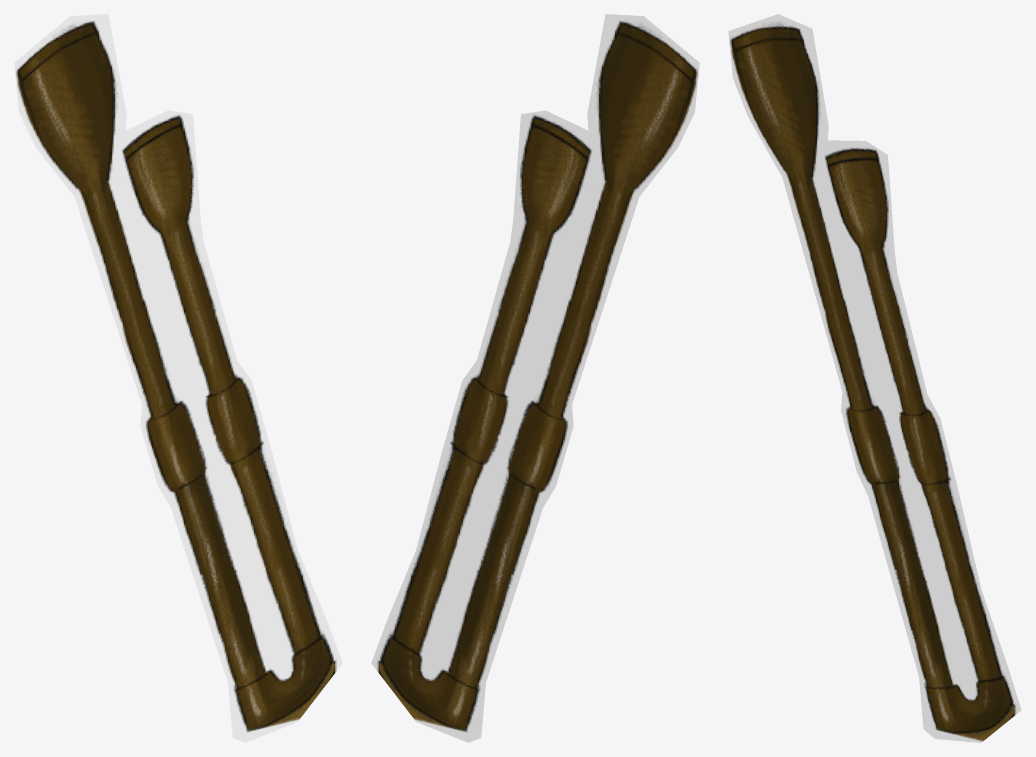
The model's file is pistala_1.glb.
The picture shows the model from 3 angles, left to right: view 1: azimuth 30°, elevation 25°; view 2: azimuth 150°, elevation 25°; view 3: azimuth 330°, elevation 25°; orthographic projection. The views are drawn at different scales.
Parts seen in each view (by area): view 1: Plane.007; view 2: Plane.007; view 3: Plane.007.
Part boxes in pixels (left/top/right/bottom): Plane.007: left=14, top=14, right=342, bottom=742; Plane.007: left=371, top=14, right=699, bottom=742; Plane.007: left=728, top=14, right=1021, bottom=742.
Bounding box in the file's own units: 5.46 × 12.22 × 0.
1 material, 1 textured.
